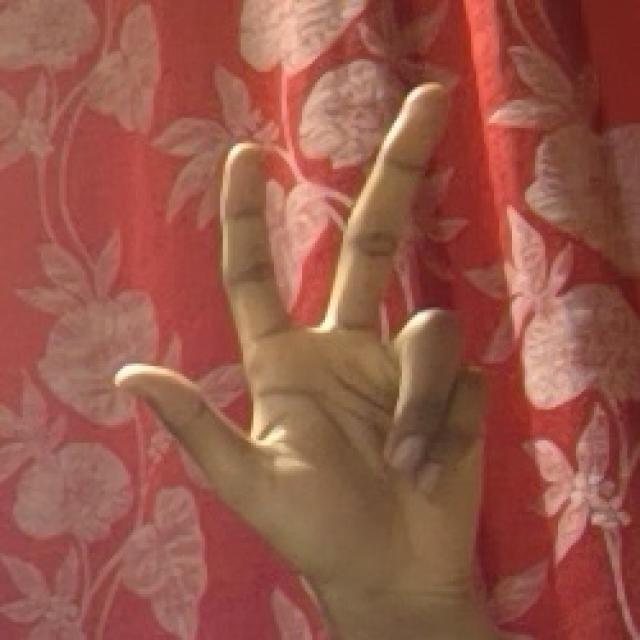Numeric-3: (115, 86, 488, 594)
